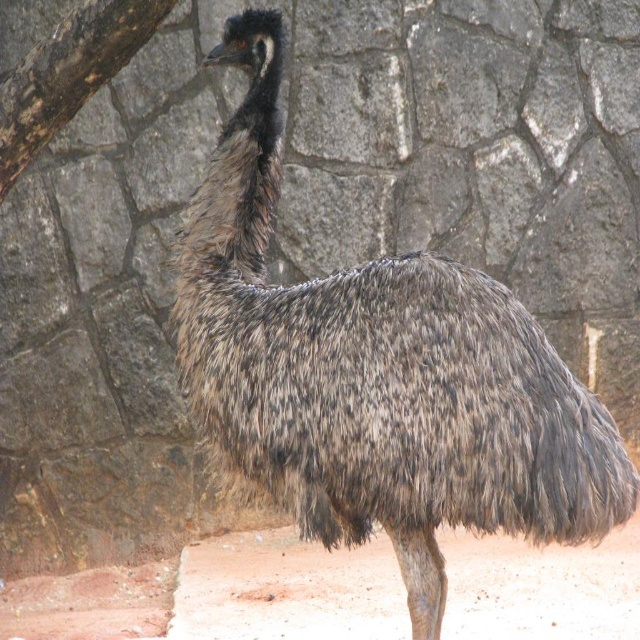Ostrich: (166, 2, 639, 639)
